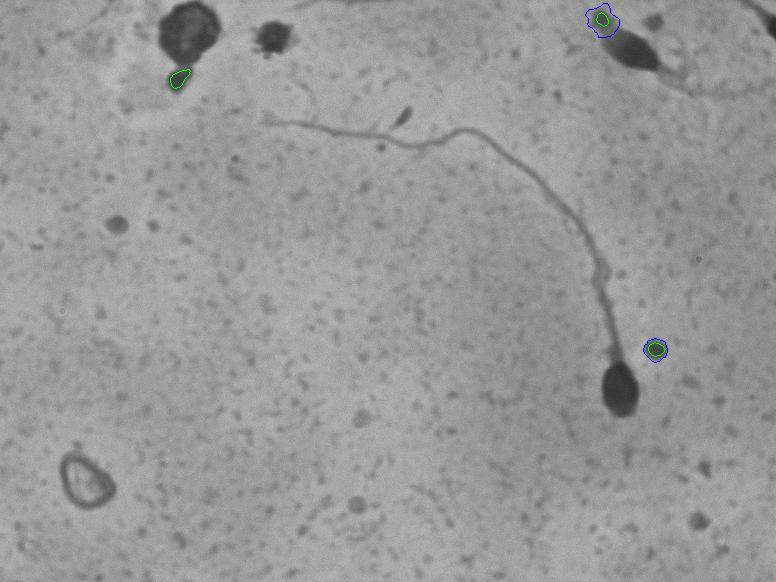Normal: (245, 109, 655, 432)
